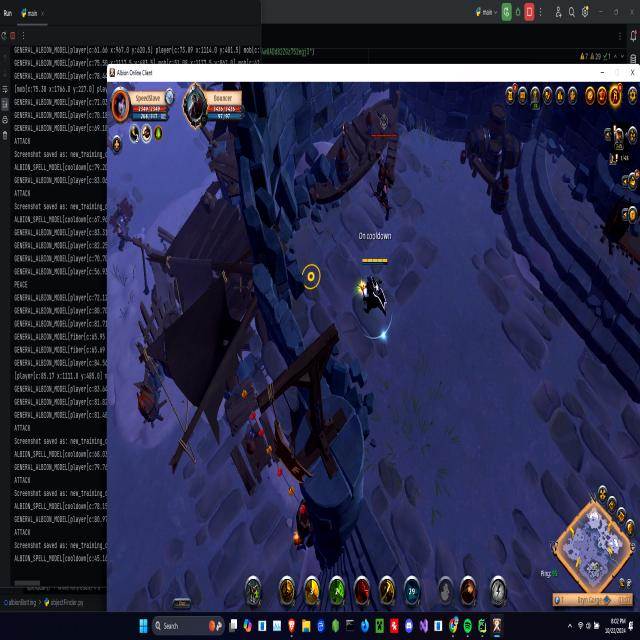ore: (367, 106, 400, 223), (107, 191, 140, 256)
red: (352, 254, 392, 338)
